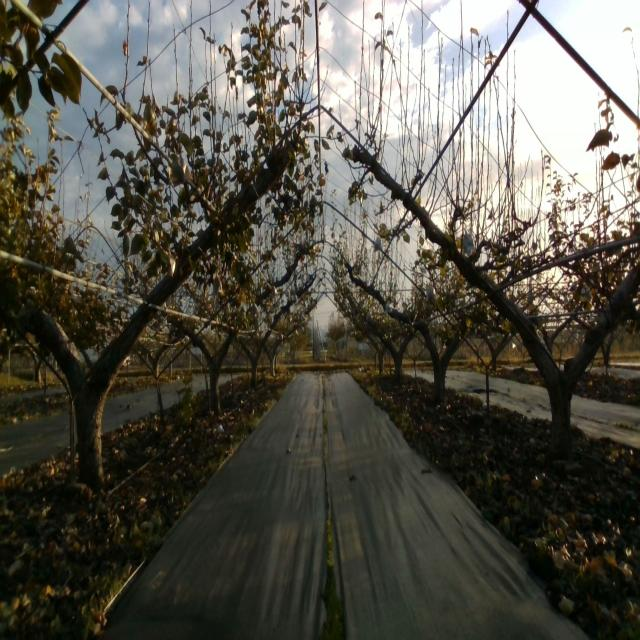pearbags: (172, 146, 194, 188), (463, 225, 474, 258), (427, 284, 438, 308)
